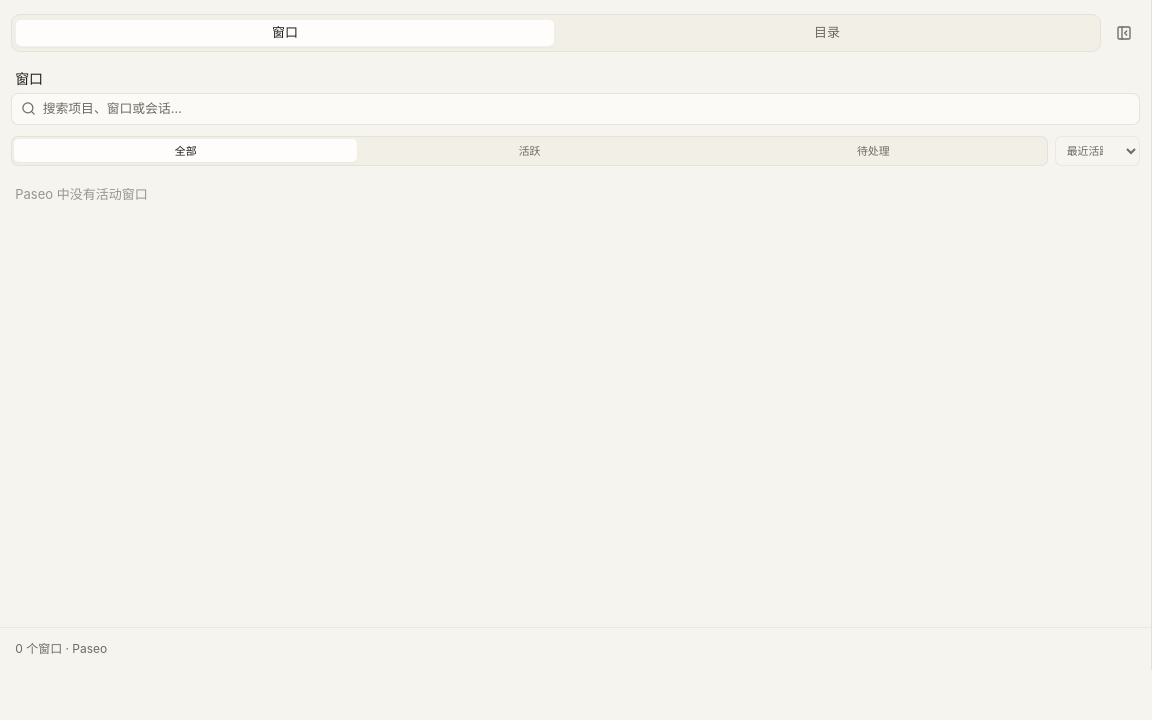
PaseoNavigation › renders the empty-tree state and no-match state distinctly
Expected: the text "Paseo 中没有活动窗口" is shown, [15, 186, 148, 202]
Type "missing" into the search field named "搜索 Paseo 项目或窗口" at (586, 109), box [43, 94, 1130, 124]
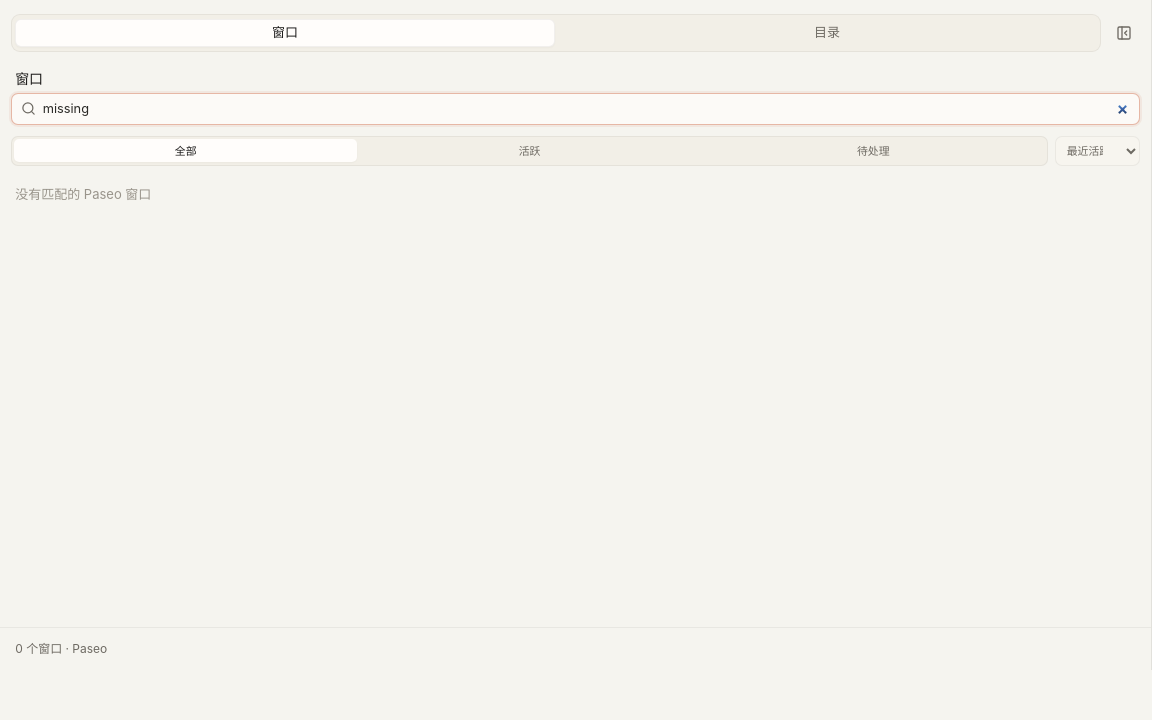
Result: the text "没有匹配的 Paseo 窗口" is shown at [15, 186, 151, 202]
